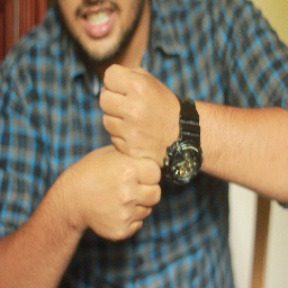G: (78, 61, 181, 244)
